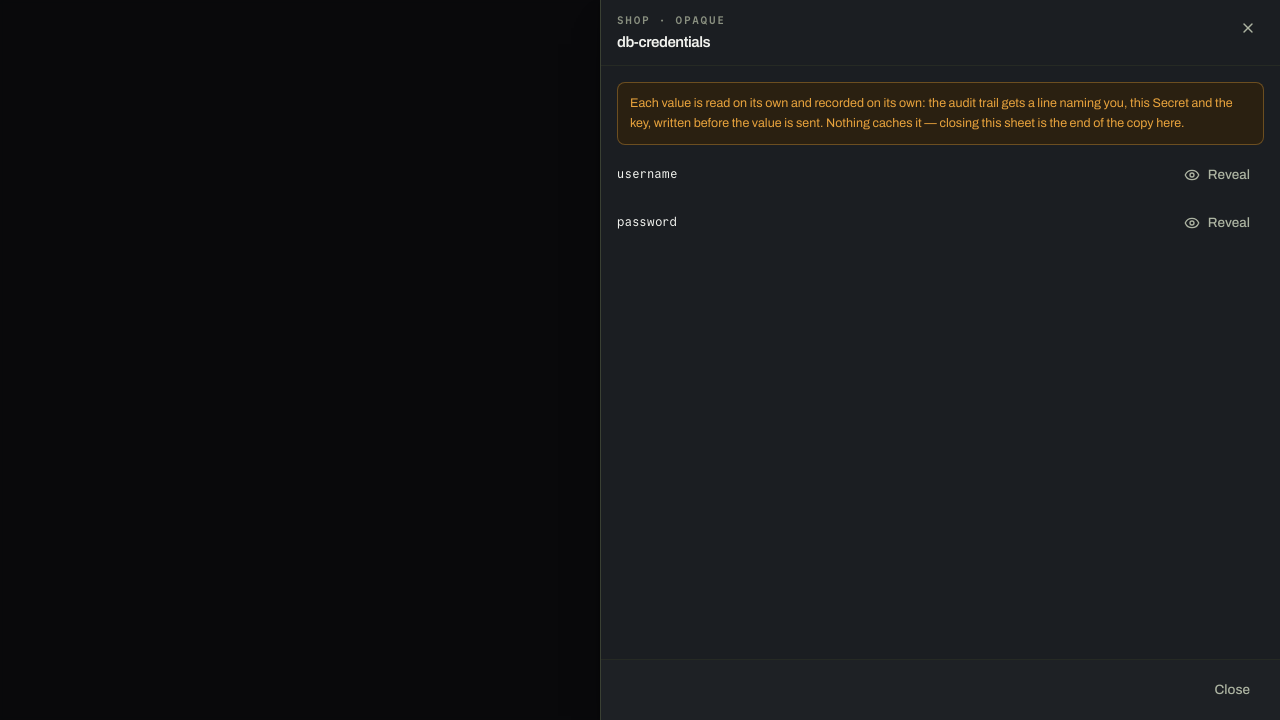
Test case: SecretRevealSheet › hands back the server's refusal against the key it was asked for
Click the button named "Reveal password".
click(1217, 223)  # box left=1170, top=205, right=1264, bottom=241
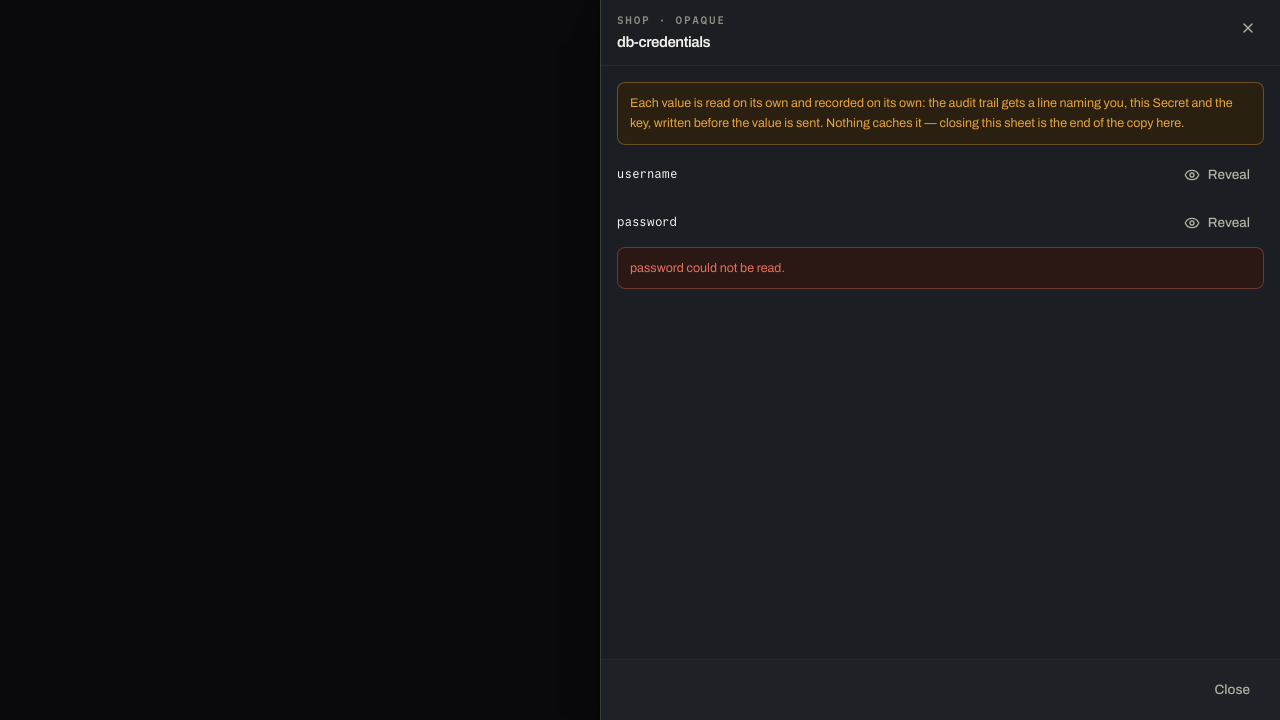
Expected: the button named "Reveal username" is shown, left=1170, top=157, right=1264, bottom=193
Now the text "password could not be read." is shown, box left=617, top=247, right=1264, bottom=289
